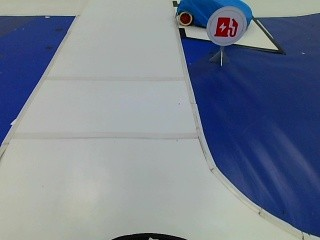battery: (207, 10, 244, 44)
car: (176, 0, 256, 31)
